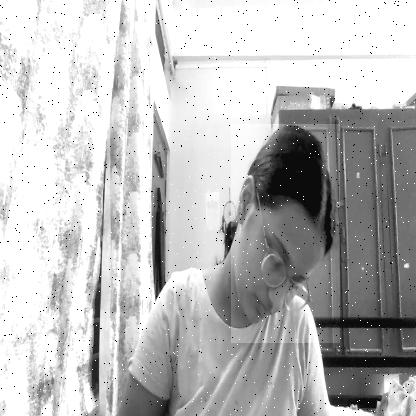Distracted: (231, 124, 340, 343)
